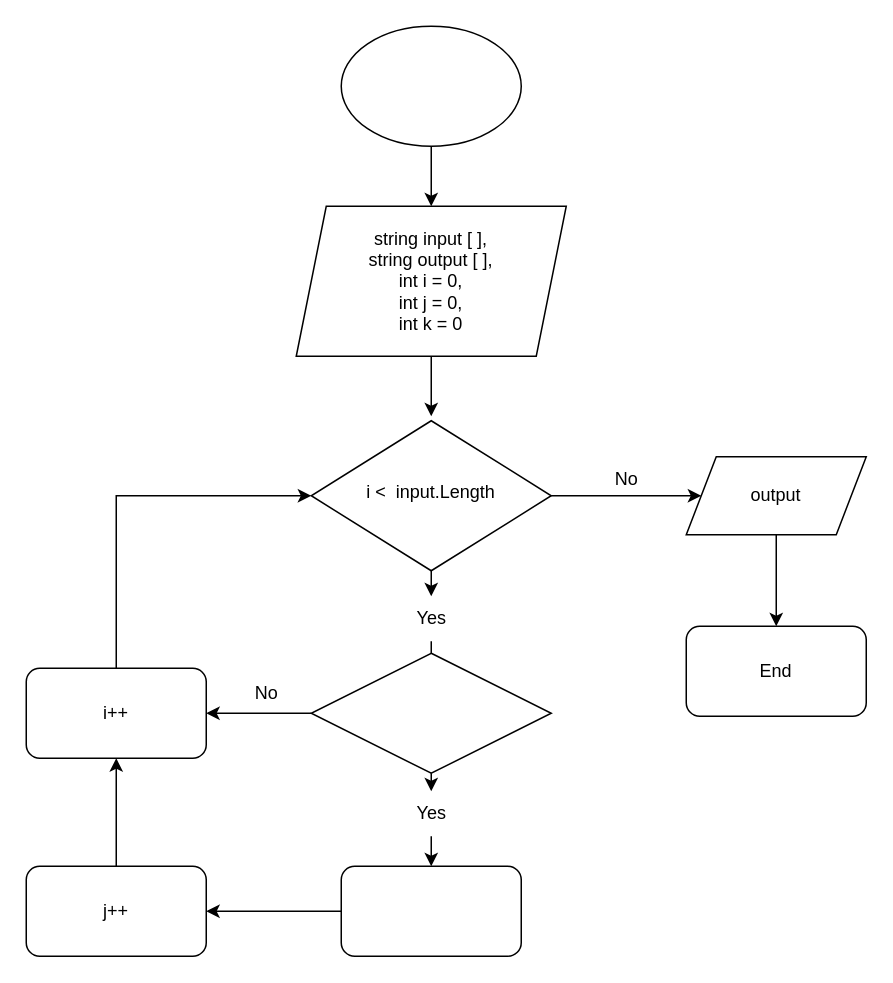
The diagram is 893 pixels wide and 983 high, and some of its shapes have lost their labels. The shapes that lost their labels are listed below. From the top down, each one's centre as x and y in pixels, then its label:
At (430,85): "Main".
At (430,712): "input[i].Length <= k".
At (430,910): "output[j] = input[i]".
